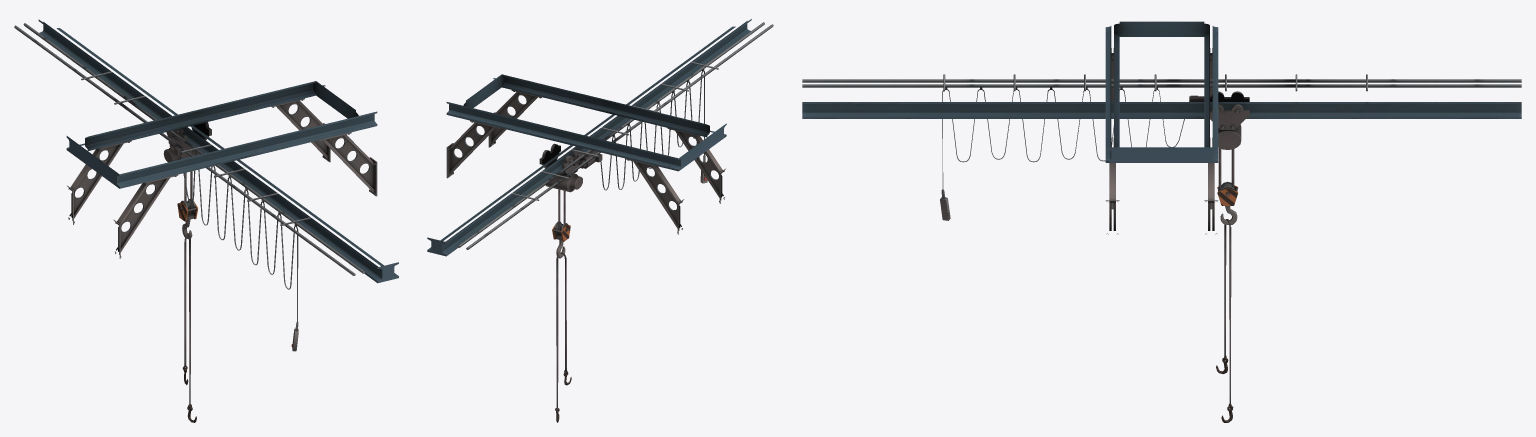
3 views of the same model, side by side, from view 1: azimuth 30°, elevation 25°; view 2: azimuth 150°, elevation 25°; view 3: azimuth 270°, elevation 25° (orthographic). The views are drawn at different scales.
Visible parts, largest first — view 1: body0_model0_lod0_mesh0; view 2: body0_model0_lod0_mesh0; view 3: body0_model0_lod0_mesh0.
Part boxes in pixels (x1,y1,x2,y2): body0_model0_lod0_mesh0: [14, 19, 398, 422]; body0_model0_lod0_mesh0: [427, 19, 773, 422]; body0_model0_lod0_mesh0: [802, 21, 1521, 422].
Bounding box in the file's own units: 448 × 535 × 1021.
1 material, 1 textured.
